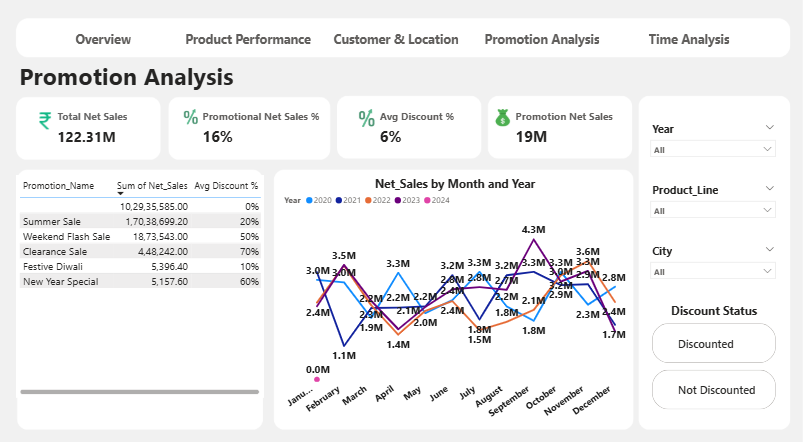

What the dashboard file says about the page in this screenshot:
{"tool":"powerbi","page":{"name":"Promotion Analysis","canvas":[1280,720],"ordinal":3},"visuals":[{"type":"cardVisual","fields":{"Data":["Measures (2).Total Net Sales"]},"box":[38.3,163.3,210,96.7],"z":0},{"type":"cardVisual","fields":{"Data":["Measures (2).Promotion Net Sales %"]},"box":[275,163.3,253.3,96.7],"z":1000},{"type":"cardVisual","fields":{"Data":["Measures (2).Avg Discount %"]},"box":[555,163.3,203.3,96.7],"z":2000},{"type":"cardVisual","fields":{"Data":["Measures (2).Promotion Net Sales"]},"box":[771.7,163.3,233.3,96.7],"z":3000},{"type":"tableEx","fields":{"Values":["dim_promotion.Promotion_Name","Sum(fact_sales.Net_Sales)","Measures (2).Avg Discount %"]},"box":[27.1,288.3,395,355.2],"z":4000},{"type":"lineChart","title":"Net_Sales by Month and Year","fields":{"Y":["Sum(fact_sales.Net_Sales)"],"Category":["fact_sales.month_name"],"Series":["fact_sales.Year"]},"box":[449.2,288.3,554.3,407.8],"z":5000},{"type":"slicer","fields":{"Values":["fact_sales.Year"]},"box":[1027,197,219.9,77.1],"z":6000},{"type":"slicer","fields":{"Values":["dim_product.Product_Line"]},"box":[1027,295.4,219.9,77.1],"z":7000},{"type":"slicer","fields":{"Values":["dim_customer.City"]},"box":[1027,392.3,219.9,77.1],"z":8000},{"type":"listSlicer","fields":{"Values":["fact_sales.Discount Status"]},"box":[1035.4,490.6,207.1,176.8],"z":9000},{"type":"actionButton","title":"Overview","box":[55.8,49.2,220,45],"z":10000},{"type":"actionButton","box":[287.2,49.2,219.9,44.3],"z":11000},{"type":"actionButton","box":[521.8,49.2,219.9,44.3],"z":12000},{"type":"actionButton","box":[754.9,49.2,219.9,44.3],"z":13000},{"type":"actionButton","box":[989.5,49.2,219.9,44.3],"z":14000},{"type":"textbox","box":[27.1,100.4,406.2,63.7],"z":15000}]}

Visuals, with their boxes in screenshot pixels (x1, y1, x2, y2), scaled from the page's 1280x720 canvas onto the 803x442 screenshot:
cardVisual - Measures (2).Total Net Sales: region(24, 100, 156, 160)
cardVisual - Measures (2).Promotion Net Sales %: region(173, 100, 331, 160)
cardVisual - Measures (2).Avg Discount %: region(348, 100, 476, 160)
cardVisual - Measures (2).Promotion Net Sales: region(484, 100, 630, 160)
tableEx - dim_promotion.Promotion_Name x Sum(fact_sales.Net_Sales): region(17, 177, 265, 395)
"Net_Sales by Month and Year" lineChart: region(282, 177, 630, 427)
slicer - fact_sales.Year: region(644, 121, 782, 168)
slicer - dim_product.Product_Line: region(644, 181, 782, 229)
slicer - dim_customer.City: region(644, 241, 782, 288)
listSlicer - fact_sales.Discount Status: region(650, 301, 779, 410)
"Overview" actionButton: region(35, 30, 173, 58)
actionButton: region(180, 30, 318, 57)
actionButton: region(327, 30, 465, 57)
actionButton: region(474, 30, 612, 57)
actionButton: region(621, 30, 759, 57)
textbox: region(17, 62, 272, 101)
